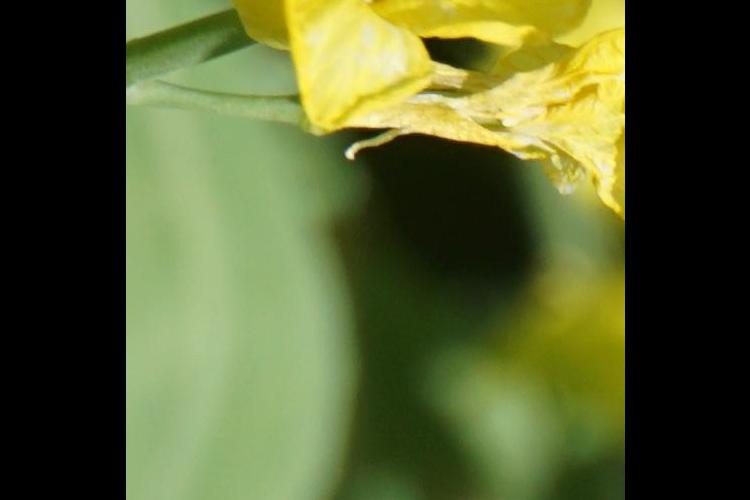yellow: (232, 1, 577, 152), (357, 40, 621, 187)
